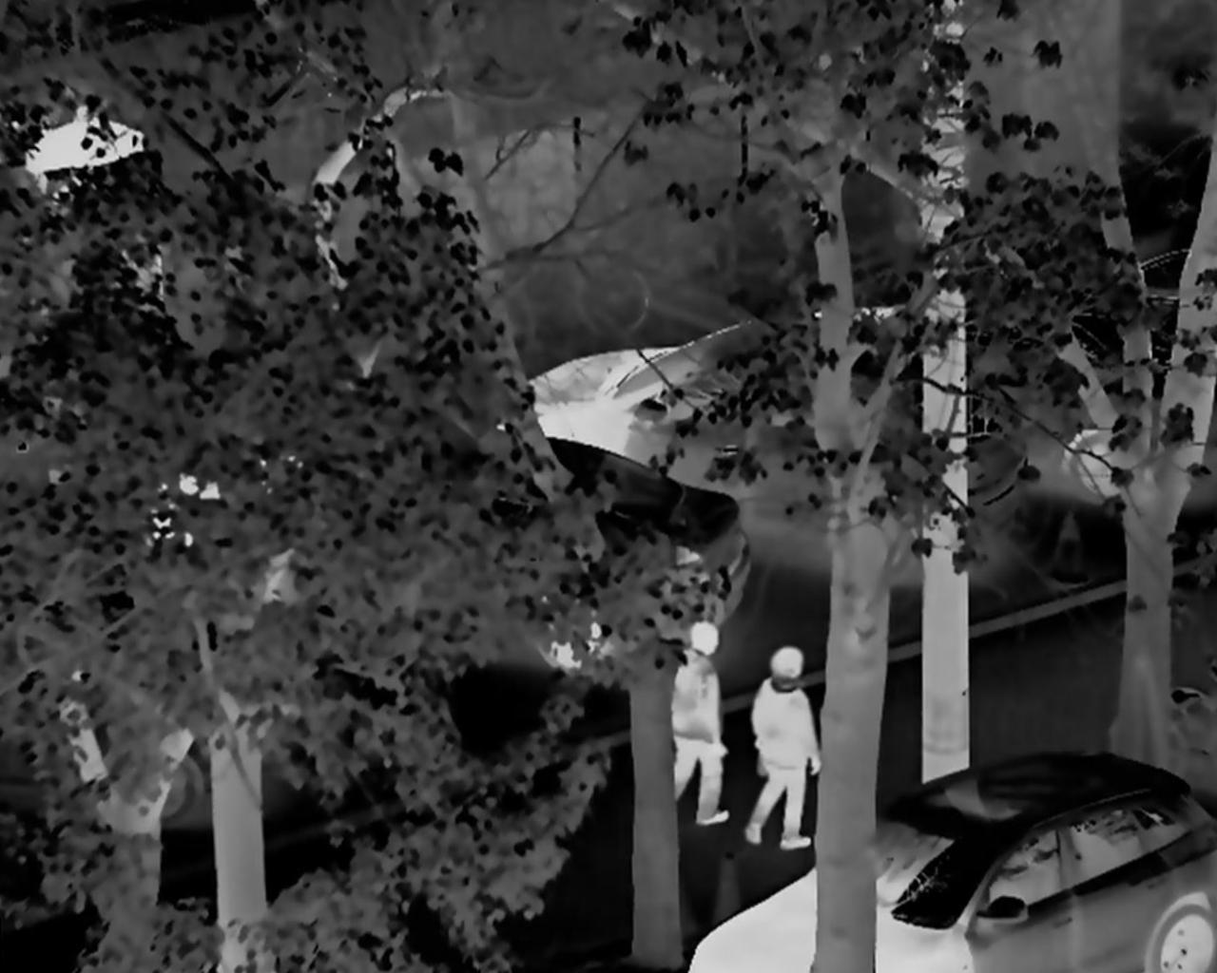person: (671, 618, 740, 829), (749, 643, 818, 847)
